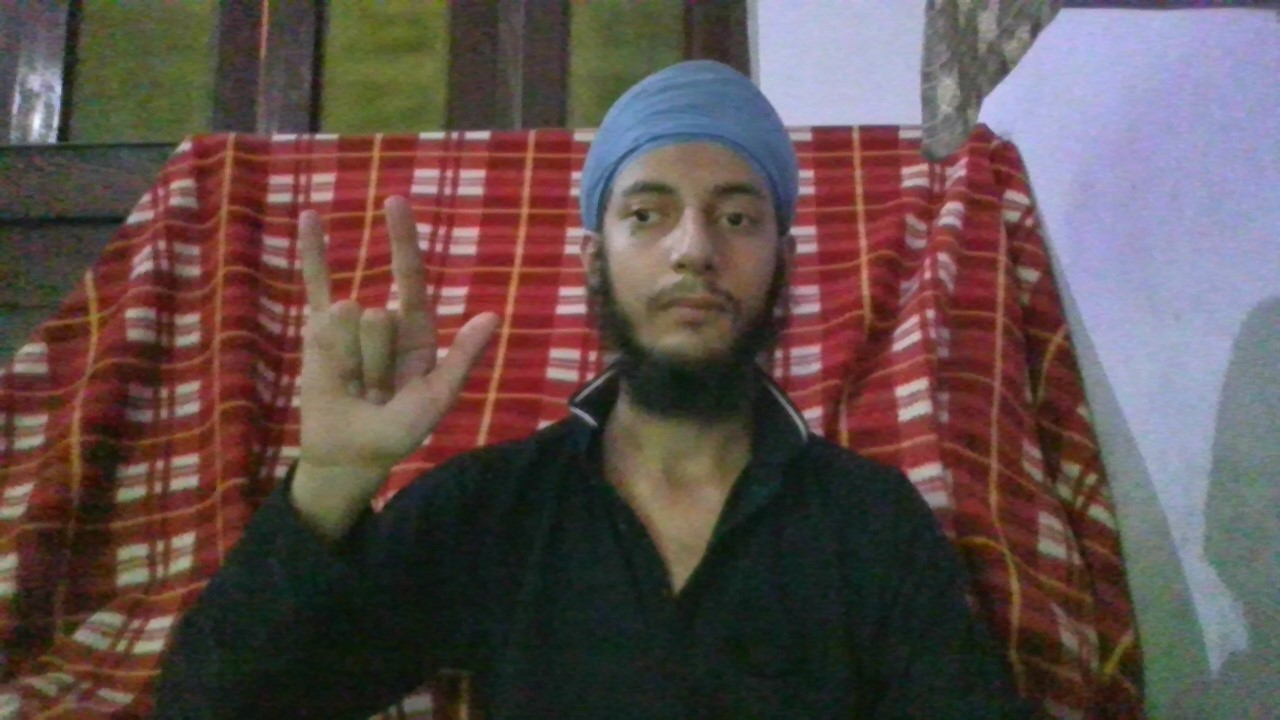I Love You: (290, 192, 500, 466)
